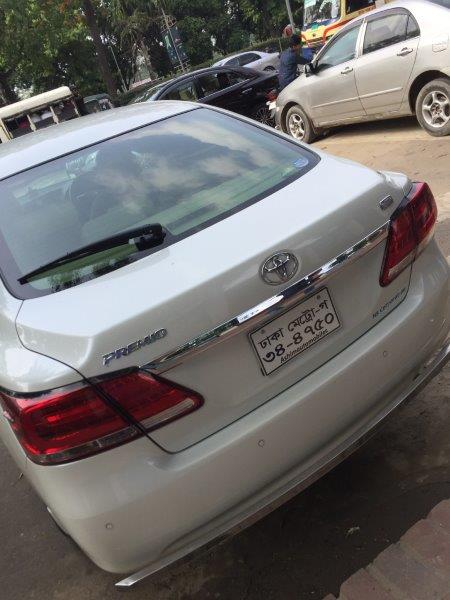car: (1, 100, 449, 582), (270, 1, 450, 143)
